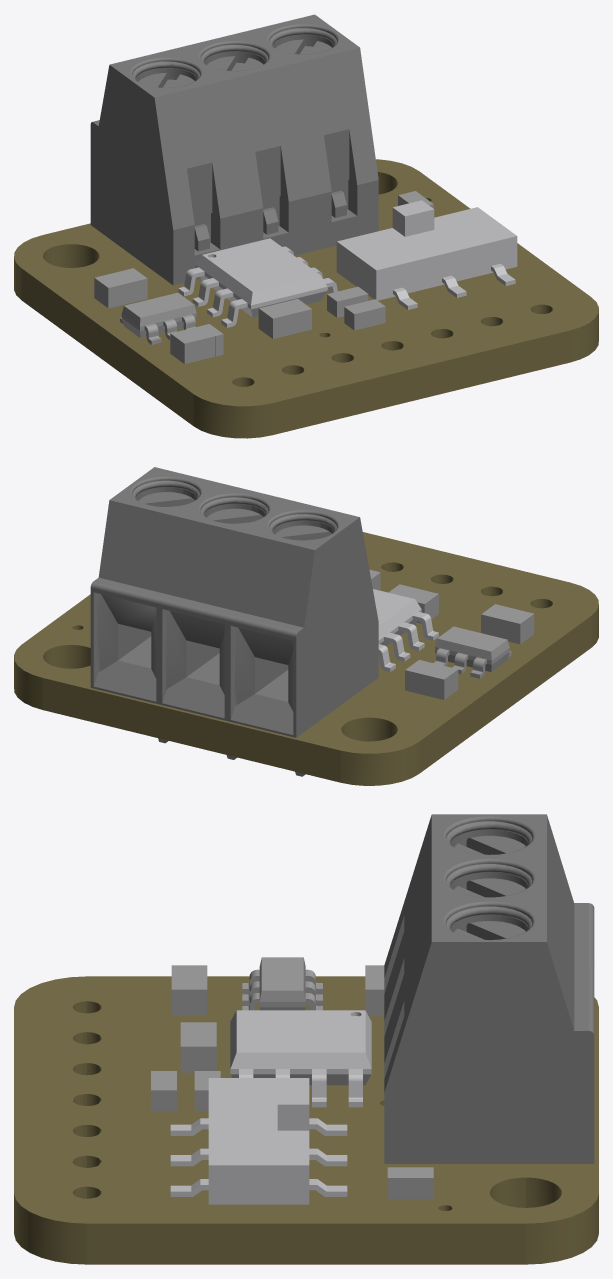
File: ada-5708.glb
The picture shows the model from 3 angles, top to bottom: view 1: azimuth 30°, elevation 25°; view 2: azimuth 150°, elevation 25°; view 3: azimuth 270°, elevation 25°; orthographic projection. The views are drawn at different scales.
Visible parts, largest first — view 1: 0.16666666666666666_0.16666666666666666_0.08333333333333333_, 0.25_0.25_0.25_0, 0.5833333333333334_0.5833333333333334_0.5833333333333334_0.8, 0.3333333333333333_0.3333333333333333_0.3333333333333333_0; view 2: 0.25_0.25_0.25_0, 0.16666666666666666_0.16666666666666666_0.08333333333333333_, 0.3333333333333333_0.3333333333333333_0.3333333333333333_0, 0.5833333333333334_0.5833333333333334_0.5833333333333334_0.8; view 3: 0.16666666666666666_0.16666666666666666_0.08333333333333333_, 0.25_0.25_0.25_0, 0.5833333333333334_0.5833333333333334_0.5833333333333334_0.8, 0.3333333333333333_0.3333333333333333_0.3333333333333333_0.
Boxes of the visible parts, x1,y1,x2,y2 form: 0.16666666666666666_0.16666666666666666_0.08333333333333333_: (14, 159, 598, 438); 0.25_0.25_0.25_0: (90, 14, 378, 285); 0.5833333333333334_0.5833333333333334_0.5833333333333334_0.8: (178, 200, 517, 327); 0.3333333333333333_0.3333333333333333_0.3333333333333333_0: (94, 191, 433, 363); 0.25_0.25_0.25_0: (90, 467, 378, 776); 0.16666666666666666_0.16666666666666666_0.08333333333333333_: (14, 532, 598, 785); 0.3333333333333333_0.3333333333333333_0.3333333333333333_0: (369, 569, 534, 699); 0.5833333333333334_0.5833333333333334_0.5833333333333334_0.8: (373, 589, 438, 671); 0.16666666666666666_0.16666666666666666_0.08333333333333333_: (14, 976, 598, 1264); 0.25_0.25_0.25_0: (384, 814, 594, 1163); 0.5833333333333334_0.5833333333333334_0.5833333333333334_0.8: (170, 1010, 371, 1204); 0.3333333333333333_0.3333333333333333_0.3333333333333333_0: (151, 957, 433, 1198).
Bounding box in the file's own units: 2.03 × 1.21 × 2.03.
